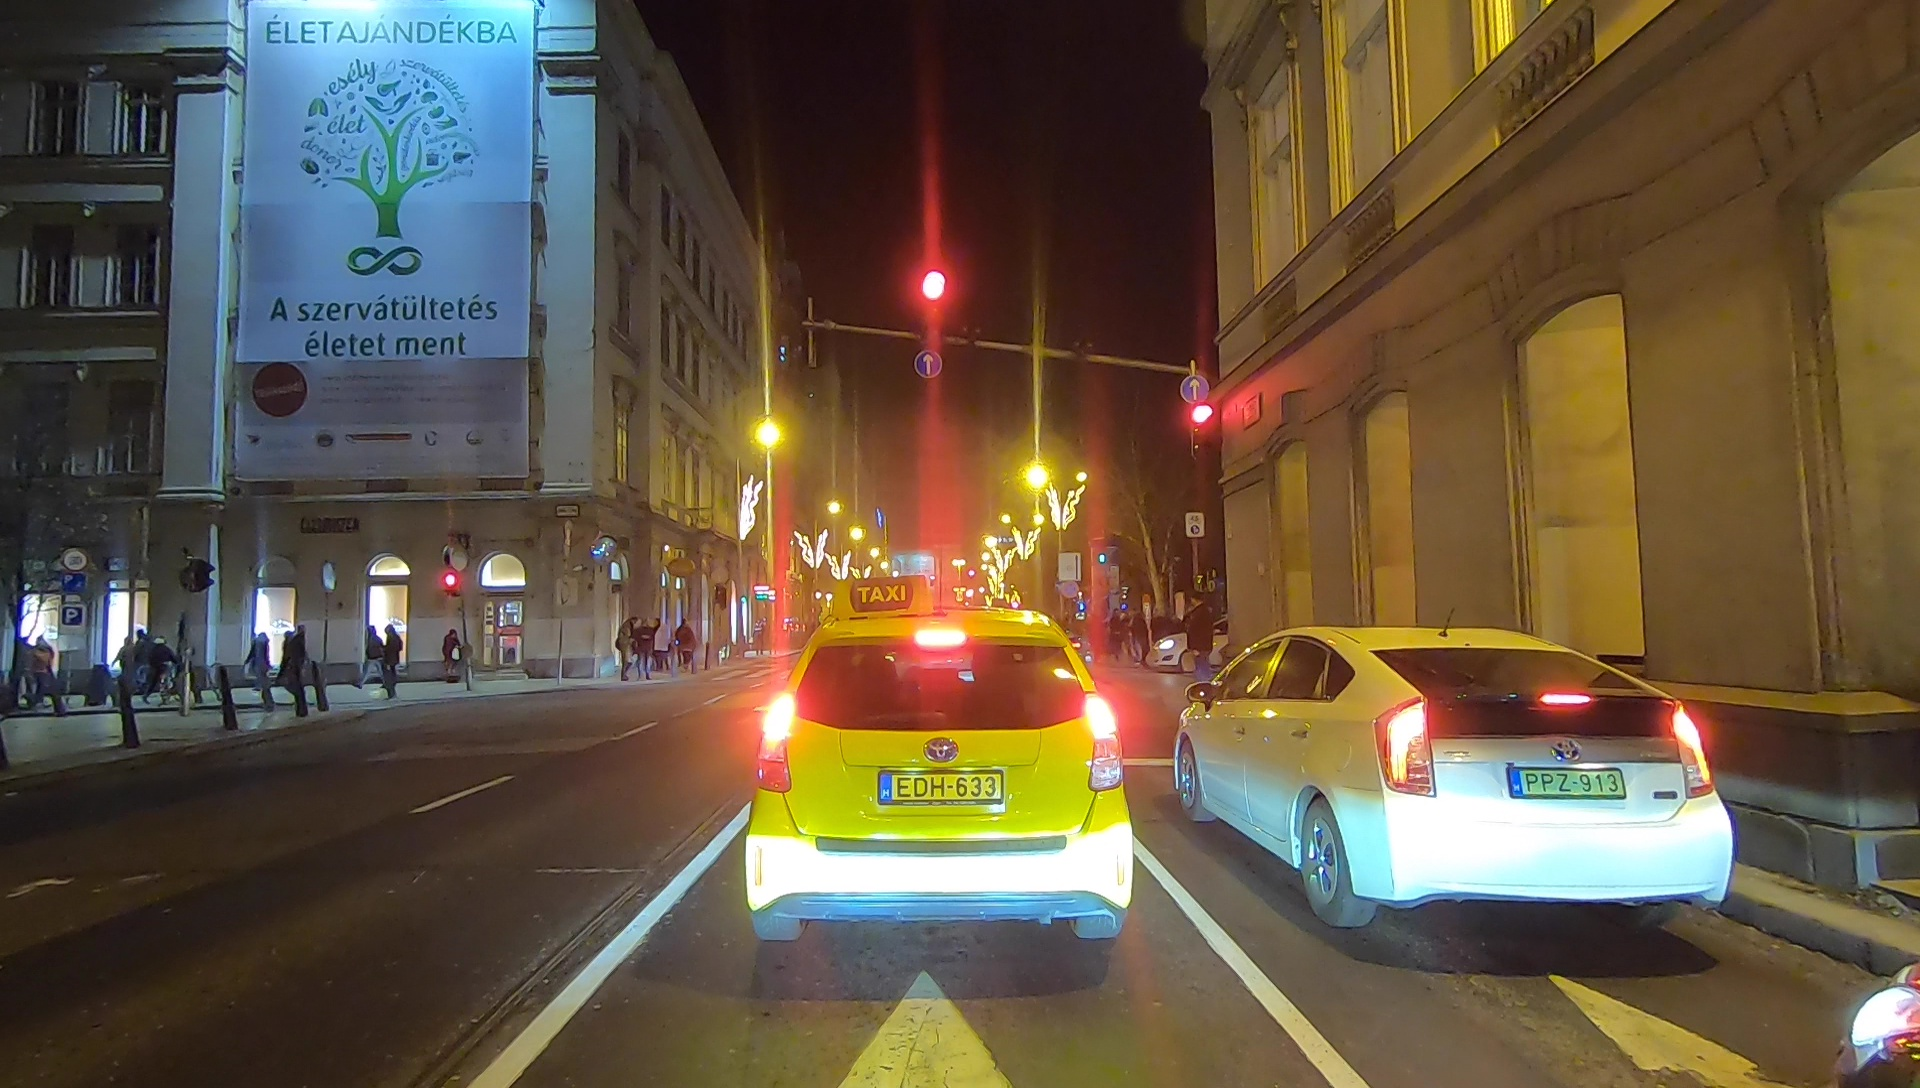person: (1178, 589, 1219, 691), (134, 632, 169, 697), (280, 634, 308, 704), (32, 634, 58, 704), (360, 626, 388, 693), (247, 636, 273, 697), (382, 621, 402, 695), (673, 621, 695, 673), (636, 624, 656, 682), (615, 621, 632, 671)
